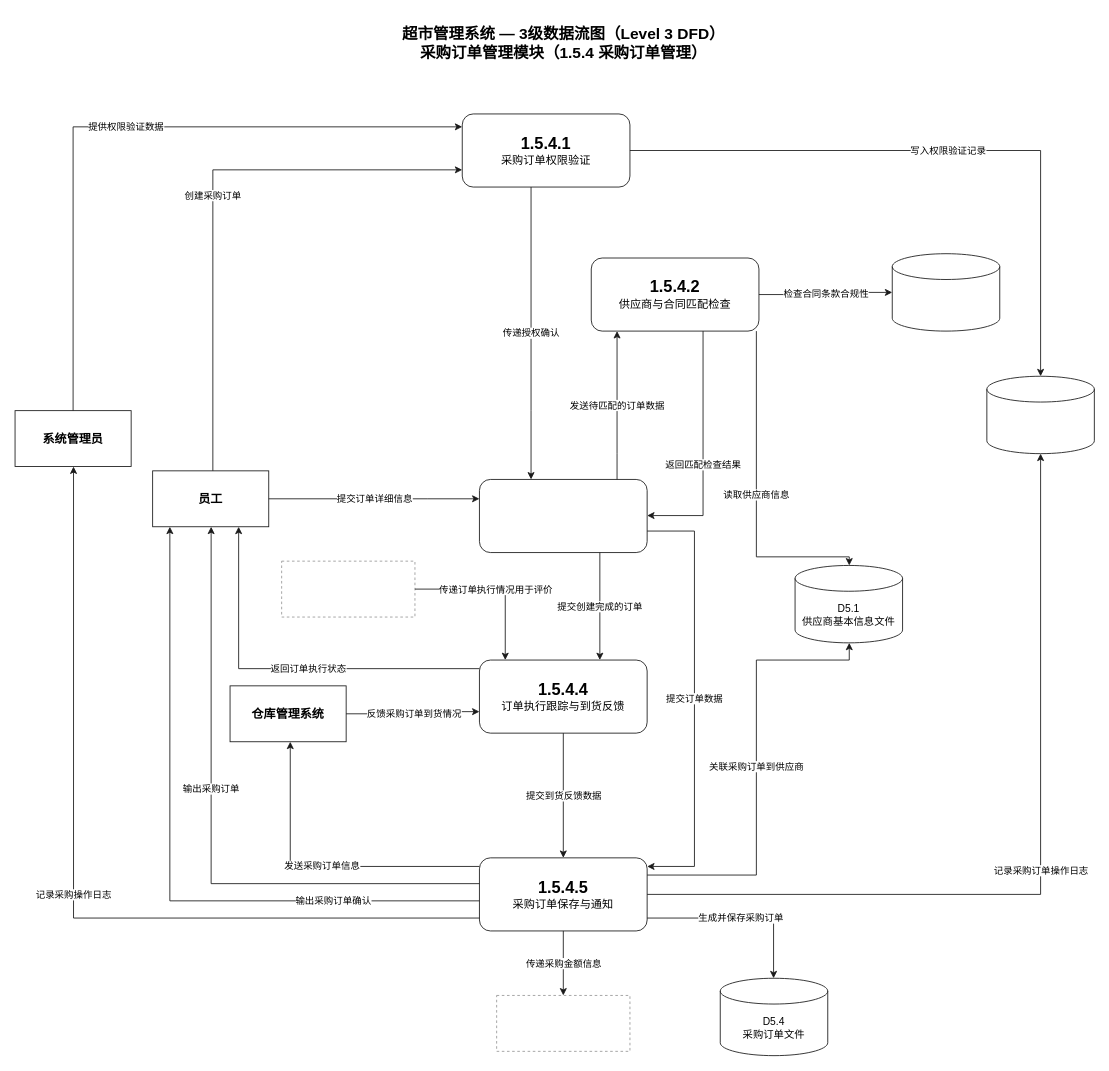
The diagram is 1109 pixels wide and 1071 high, and some of its shapes have lost their labels. The box of each missing label's shape, as (x1, y1, x2, y2) in pixels:
1.5.4.3 采购订单创建与录入: (479, 479, 647, 553)
D5.2 供应商合同文件: (891, 253, 1000, 331)
D5.4.1 采购订单操作日志文件: (986, 375, 1094, 454)
供应商评价管理模块: (281, 560, 415, 617)
财务管理模块: (496, 995, 630, 1051)
